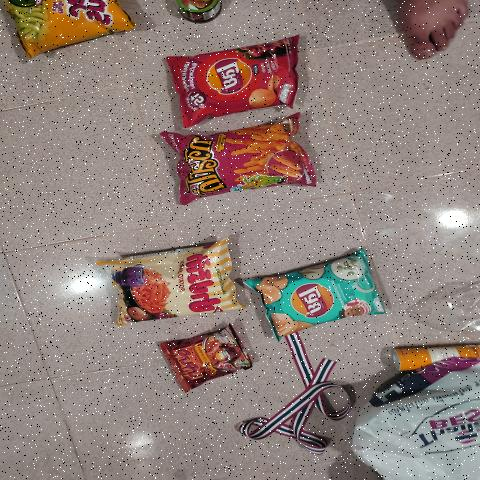lay_blue: (273, 247, 384, 331)
mama: (175, 323, 255, 388)
paprika: (129, 249, 228, 311)
twisco: (190, 128, 302, 194)
